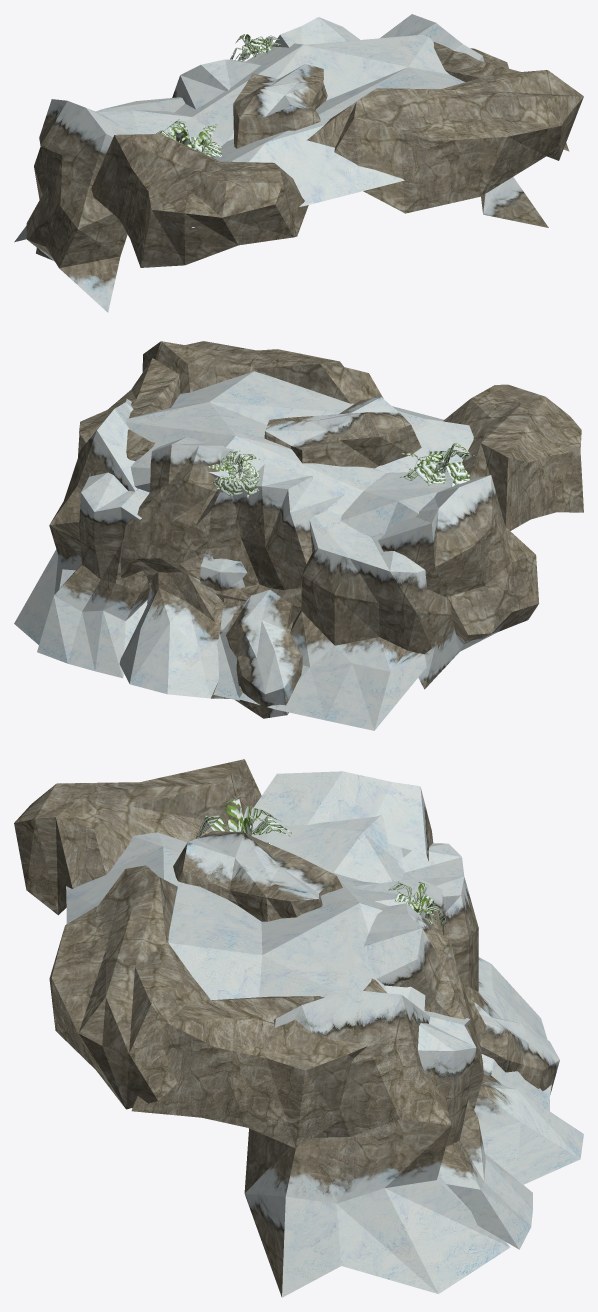
Rendered from C1SNROCKFACESN_H.bgf.obj.
3 views of the same model, one above another, from view 1: azimuth 30°, elevation 25°; view 2: azimuth 150°, elevation 25°; view 3: azimuth 270°, elevation 25° (orthographic). The views are drawn at different scales.
Visible parts, largest first — view 1: C1SNROCKFACESN, FERN01; view 2: C1SNROCKFACESN, FERN01; view 3: C1SNROCKFACESN, FERN01.
Part boxes in pixels (x1,y1,x2,y2): C1SNROCKFACESN: (14, 14, 583, 312); FERN01: (156, 34, 280, 158); C1SNROCKFACESN: (14, 341, 583, 730); FERN01: (208, 443, 476, 498); C1SNROCKFACESN: (14, 759, 583, 1297); FERN01: (195, 798, 448, 925).
Size of the model in its own units: 95.14 by 43.5 by 76.58.
4 materials, 4 textured.
